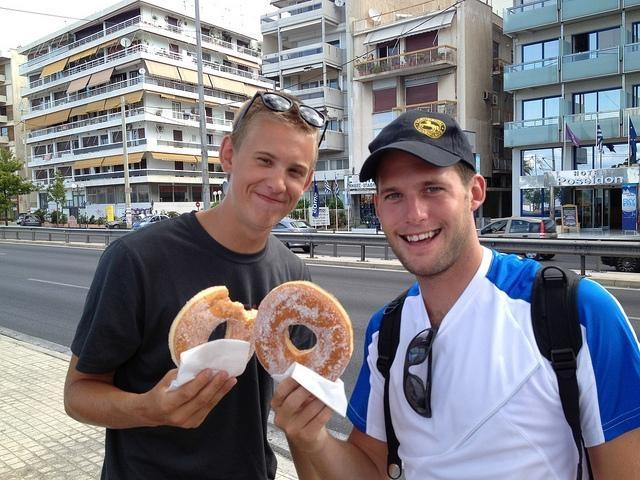car: (476, 215, 559, 262), (272, 220, 320, 254), (600, 256, 640, 272), (132, 214, 172, 230), (104, 216, 142, 228), (20, 214, 42, 227)
